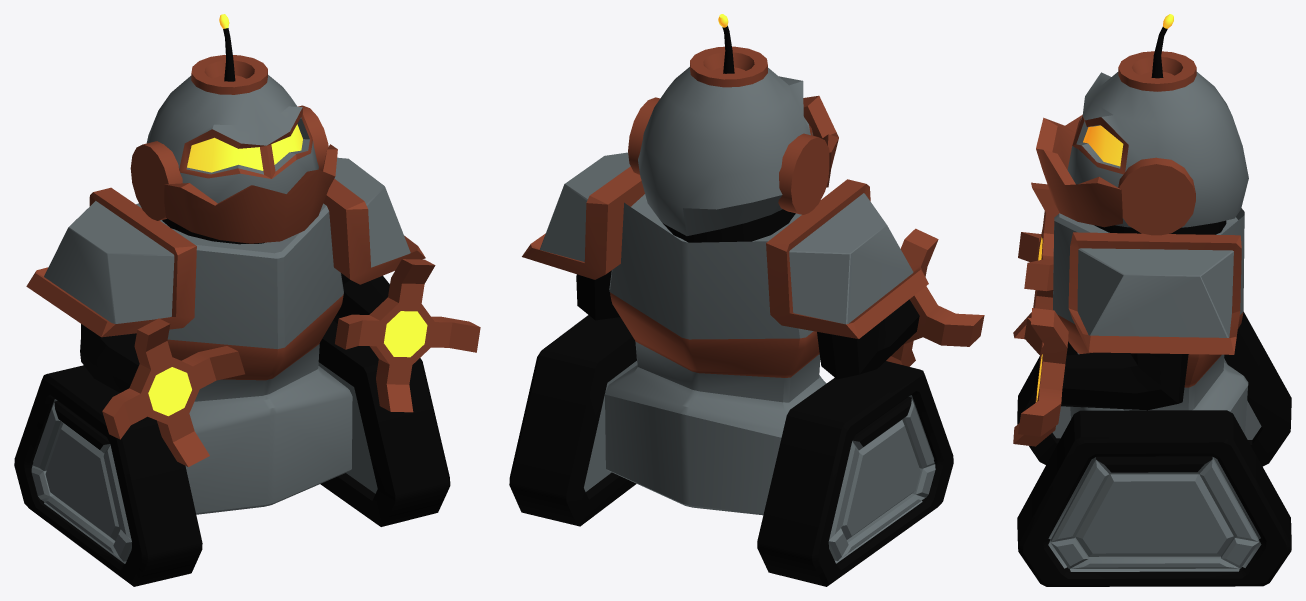
The model's file is tekerli robot.fbx.
3 renders of one model, left to right at view 1: azimuth 30°, elevation 25°; view 2: azimuth 150°, elevation 25°; view 3: azimuth 270°, elevation 25°, orthographic.
Visible parts, largest first — view 1: tekerlekli robot; view 2: tekerlekli robot; view 3: tekerlekli robot.
Boxes of the visible parts, x1,y1,x2,y2 form: tekerlekli robot: [14, 14, 480, 586]; tekerlekli robot: [509, 14, 984, 586]; tekerlekli robot: [1013, 14, 1291, 586].
Size of the model in its own units: 440 by 563 by 285.
